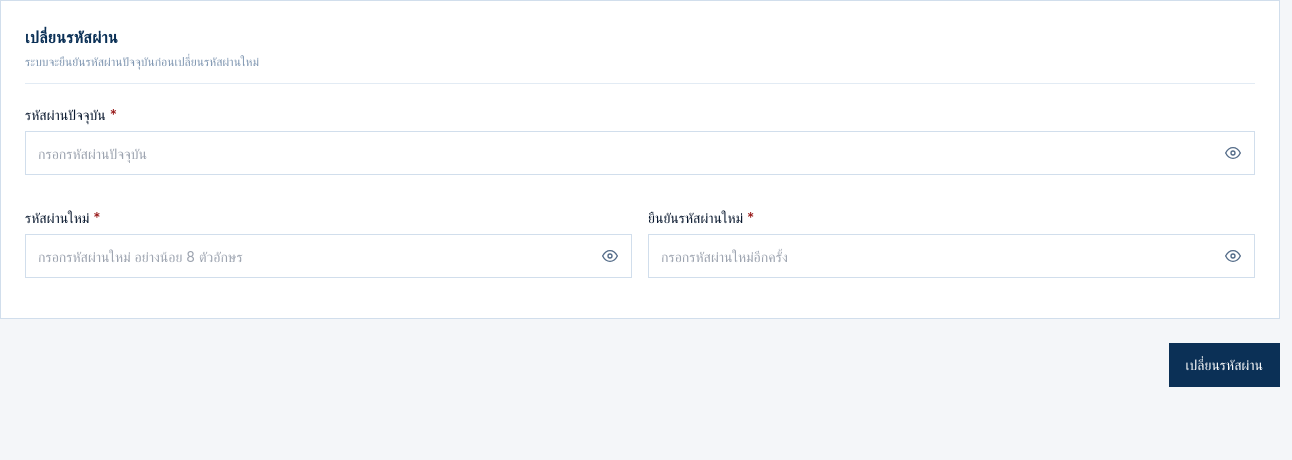
Scenario: ChangePasswordForm › shows validation error when submitted empty
The image size is (1292, 460).
Click the button "เปลี่ยนรหัสผ่าน" at {"x": 1224, "y": 365}, box [1168, 343, 1280, 387]
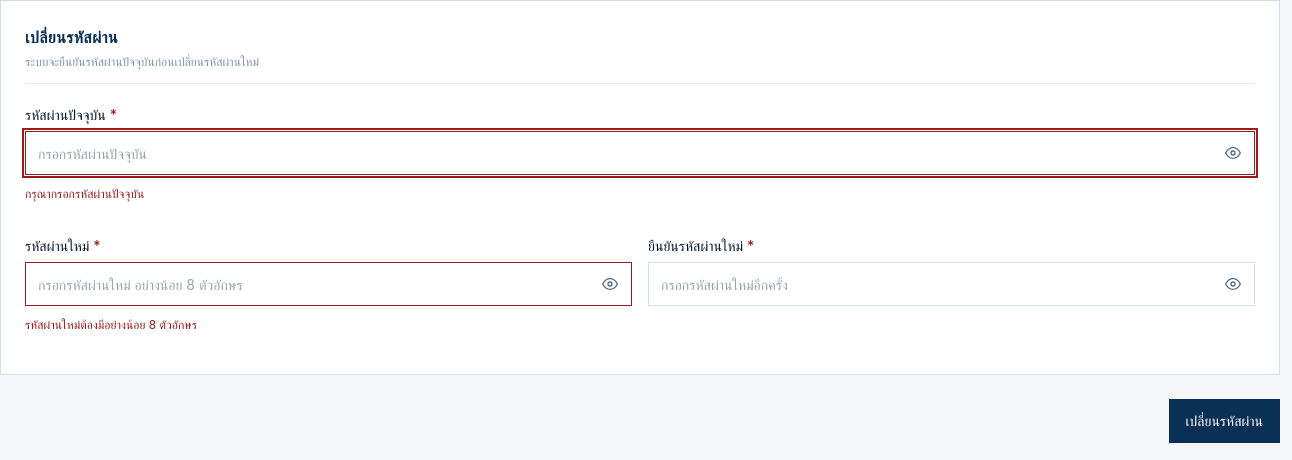
Expected: the text "กรุณากรอกรหัสผ่านปัจจุบัน" is shown, [25, 186, 144, 201]
